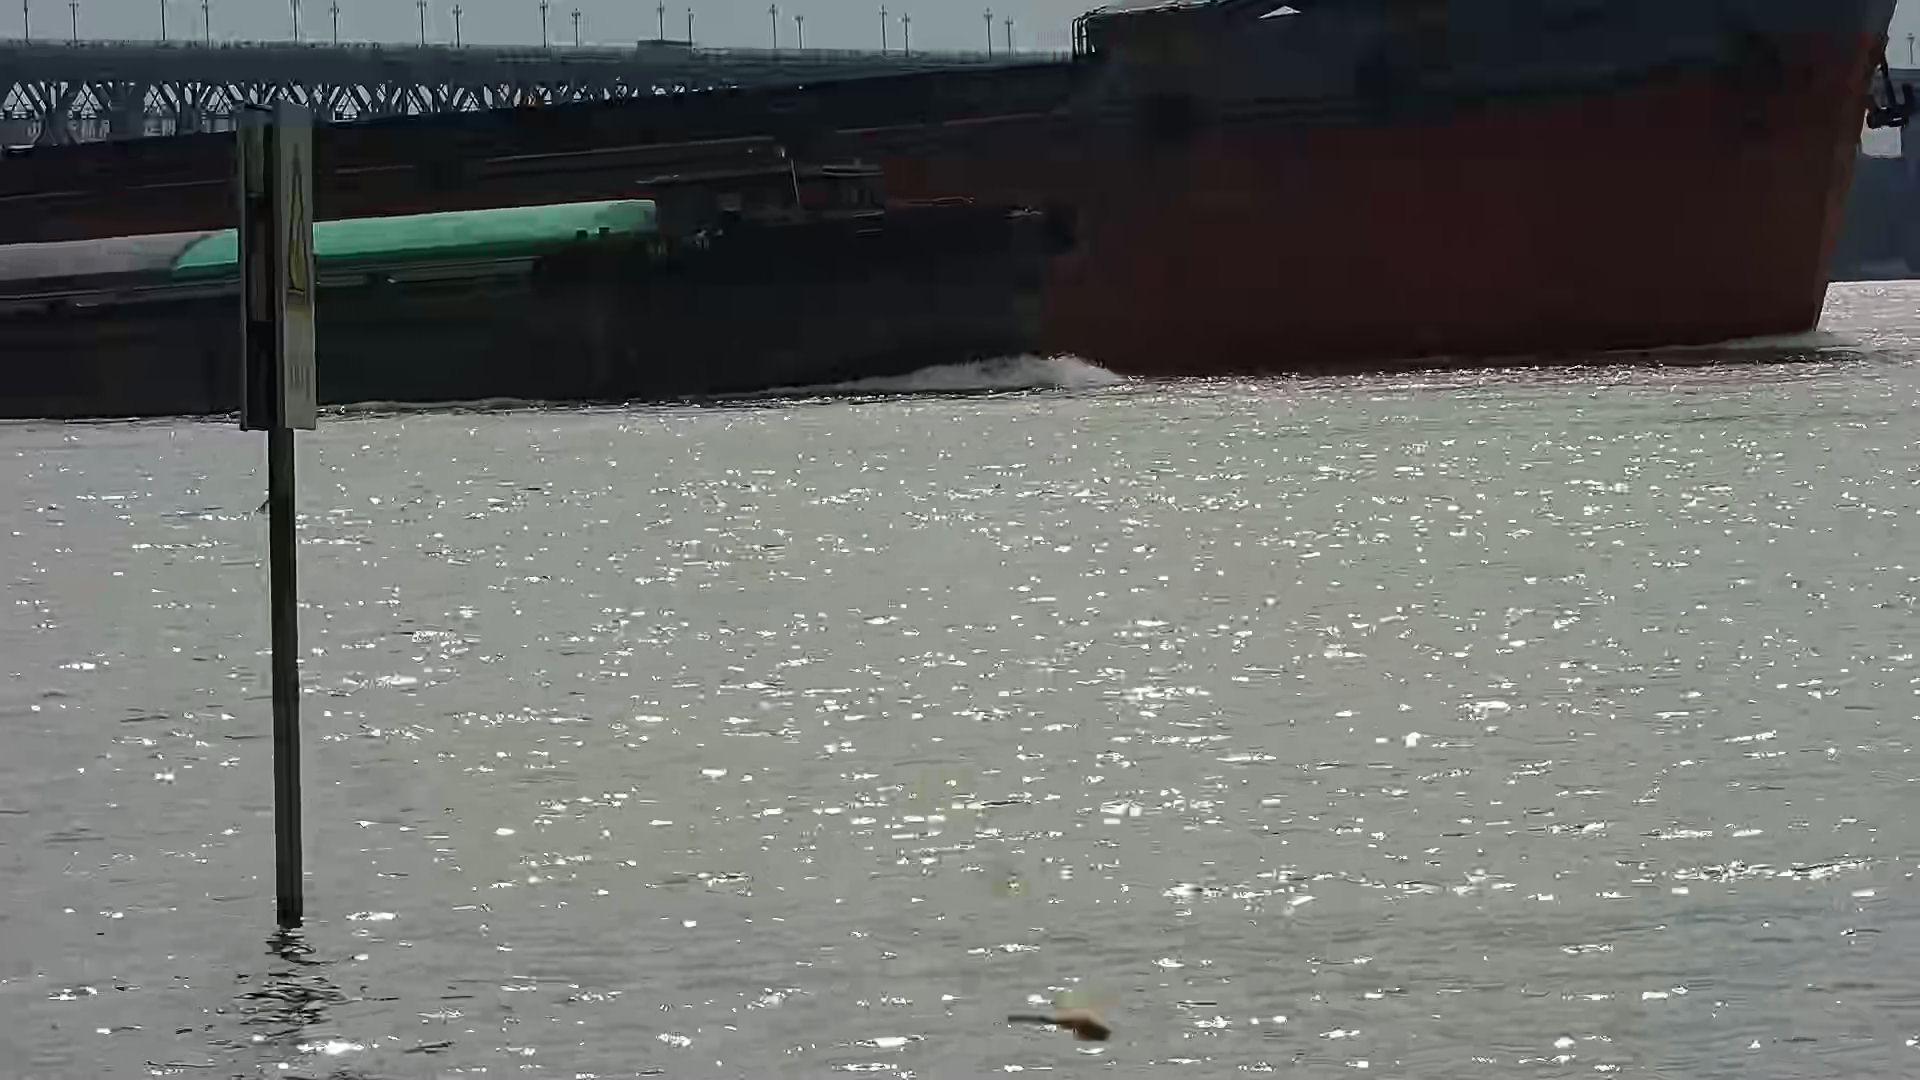bridge: (1, 3, 1083, 142)
mast: (241, 103, 318, 931)
rubbish: (1009, 1004, 1112, 1046)
ship: (1, 3, 1898, 372), (1, 162, 1077, 419)
